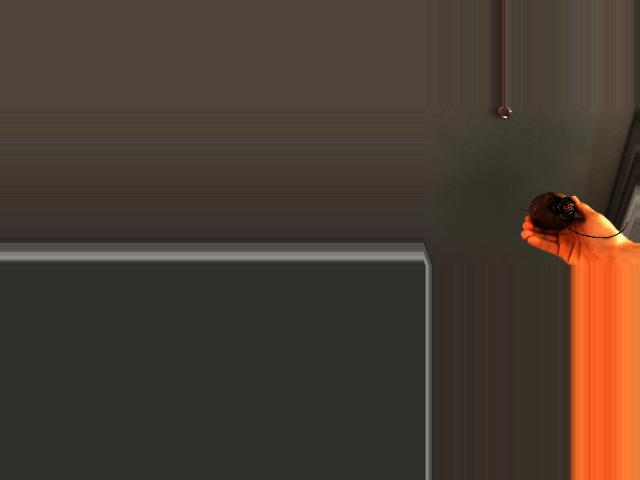beet: (517, 193, 627, 239)
